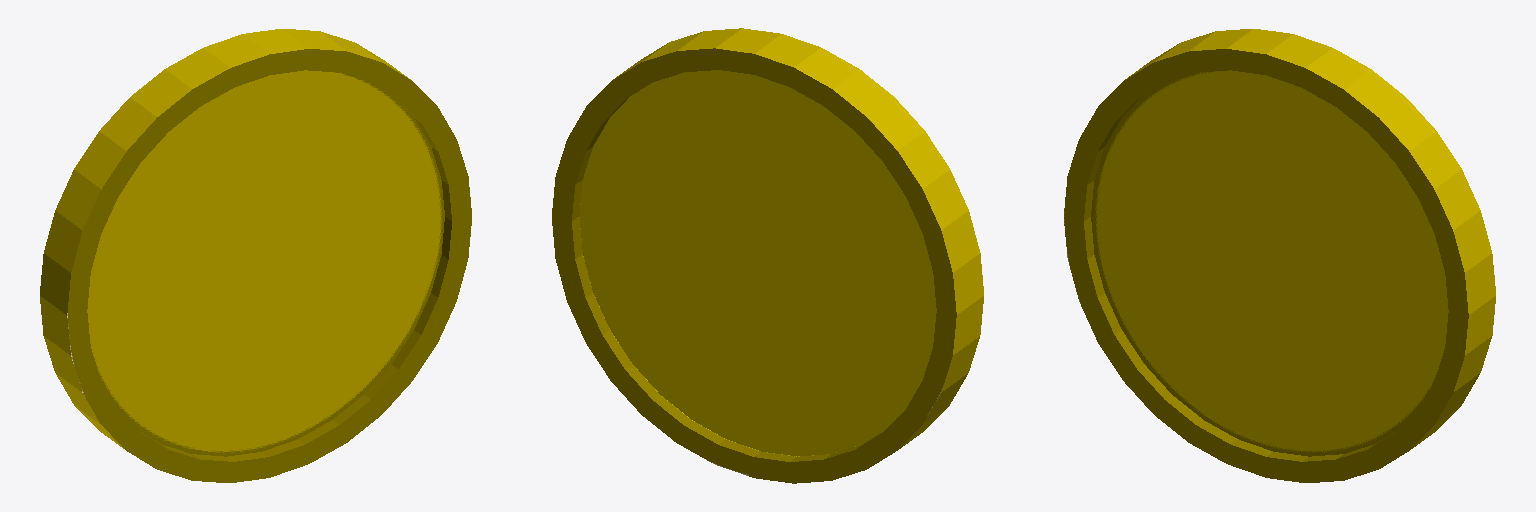
3 renders of one model, left to right at view 1: azimuth 30°, elevation 25°; view 2: azimuth 150°, elevation 25°; view 3: azimuth 330°, elevation 25°, orthographic.
Visible parts, largest first — view 1: 円柱; view 2: 円柱; view 3: 円柱.
Part boxes in pixels (left/top/right/bottom): 円柱: left=40, top=29, right=471, bottom=482; 円柱: left=552, top=28, right=983, bottom=483; 円柱: left=1064, top=29, right=1495, bottom=482.
Bounding box in the file's own units: 1.97 × 1.97 × 0.2361.
1 materials, 1 textured.